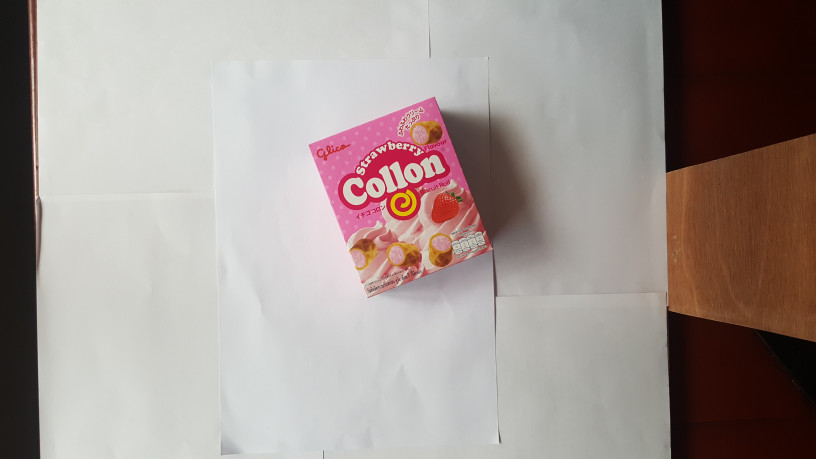collon-strawberry: (306, 94, 493, 299)
